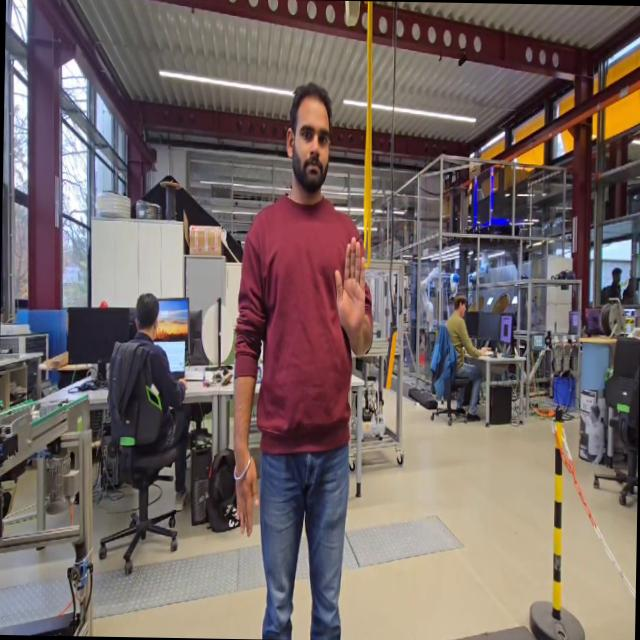open_palm: (329, 231, 371, 344)
